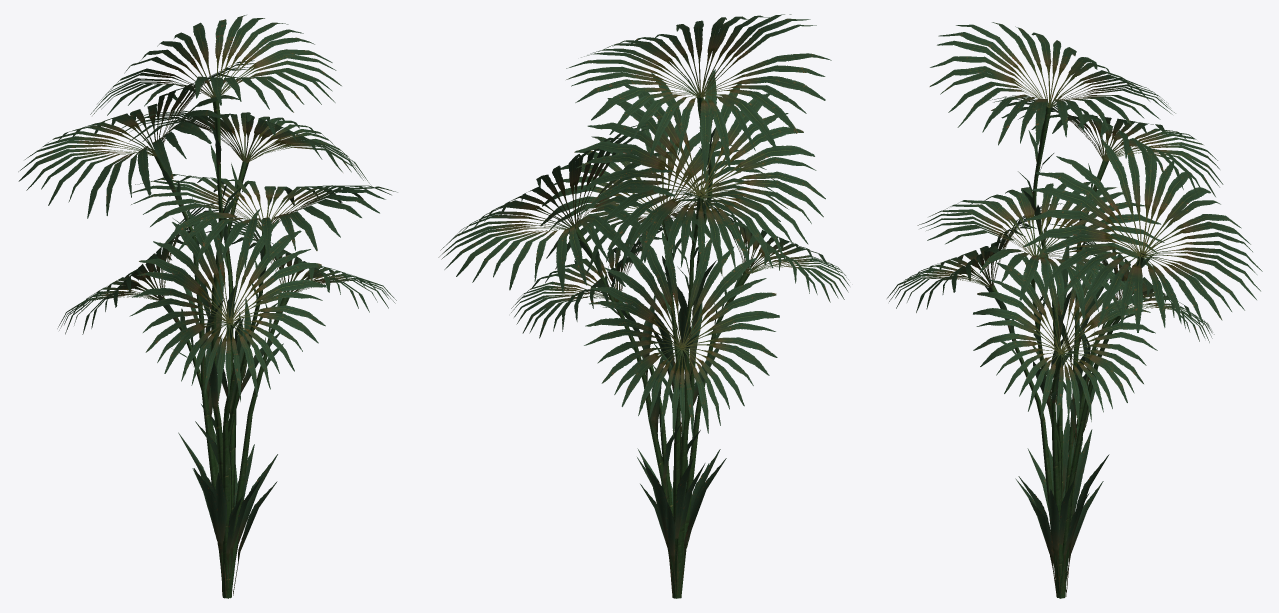
File: Plant1_2_L2.fbx
The picture shows the model from 3 angles, left to right: view 1: azimuth 30°, elevation 25°; view 2: azimuth 150°, elevation 25°; view 3: azimuth 270°, elevation 25°; orthographic projection. The views are drawn at different scales.
Visible parts, largest first — view 1: polySurface22; view 2: polySurface22; view 3: polySurface22.
Boxes of the visible parts, left/top/right/bottom form: polySurface22: left=18, top=15, right=397, bottom=598; polySurface22: left=438, top=14, right=849, bottom=598; polySurface22: left=887, top=22, right=1262, bottom=598.
Bounding box in the file's own units: 379 × 624 × 400.
